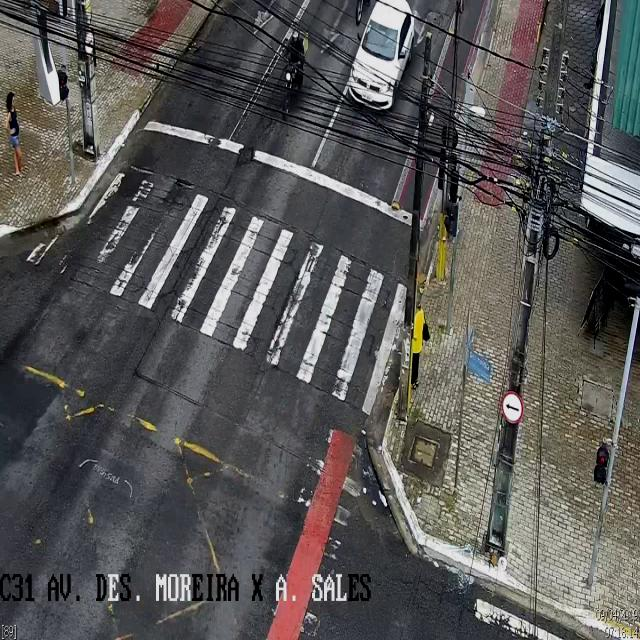Car: (349, 2, 415, 114)
Motorcycle: (283, 31, 307, 117)
